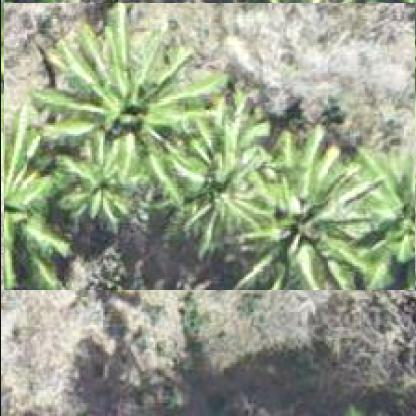coconut tree: (2, 2, 414, 290)
